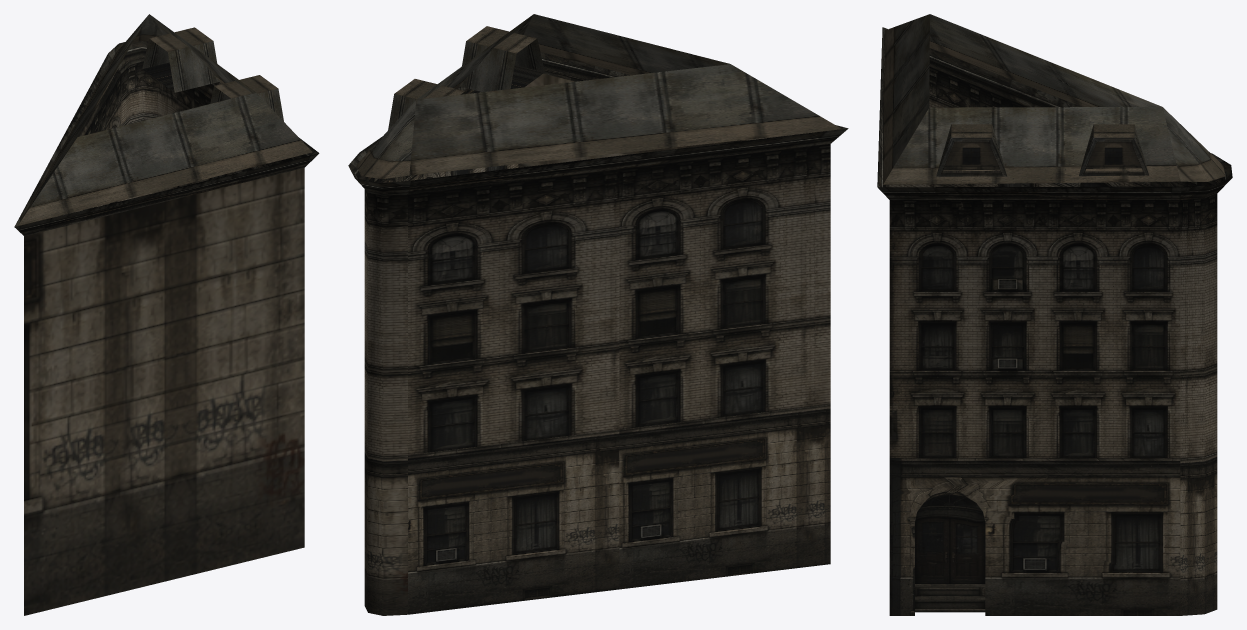
The picture shows the model from 3 angles, left to right: view 1: azimuth 30°, elevation 25°; view 2: azimuth 150°, elevation 25°; view 3: azimuth 270°, elevation 25°; orthographic projection. The views are drawn at different scales.
Visible parts, largest first — view 1: B002; view 2: B002; view 3: B002.
Boxes of the visible parts, <box> form: B002: <box>14,14,319,615</box>; B002: <box>348,14,848,615</box>; B002: <box>877,14,1232,615</box>.
Size of the model in its own units: 5.3 by 7.45 by 4.87.
1 material, 1 textured.
